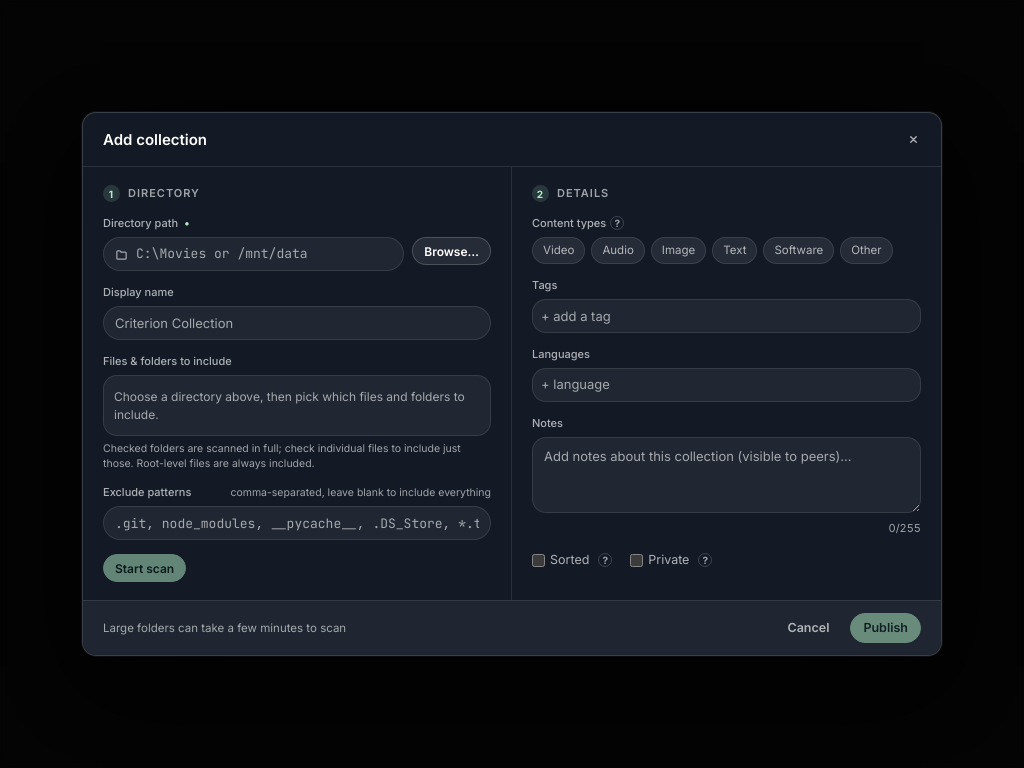
Scenario: AddCollectionModal (QURATOR-206 — one two-column screen) › publish_stays_disabled_until_both_a_scan_exists_and_a_content_type_is_picked
The image size is (1024, 768).
Expected: the button "Publish" is disabled, [850, 613, 921, 643]
Click the button "Video".
click(559, 251)  # box [532, 237, 585, 264]
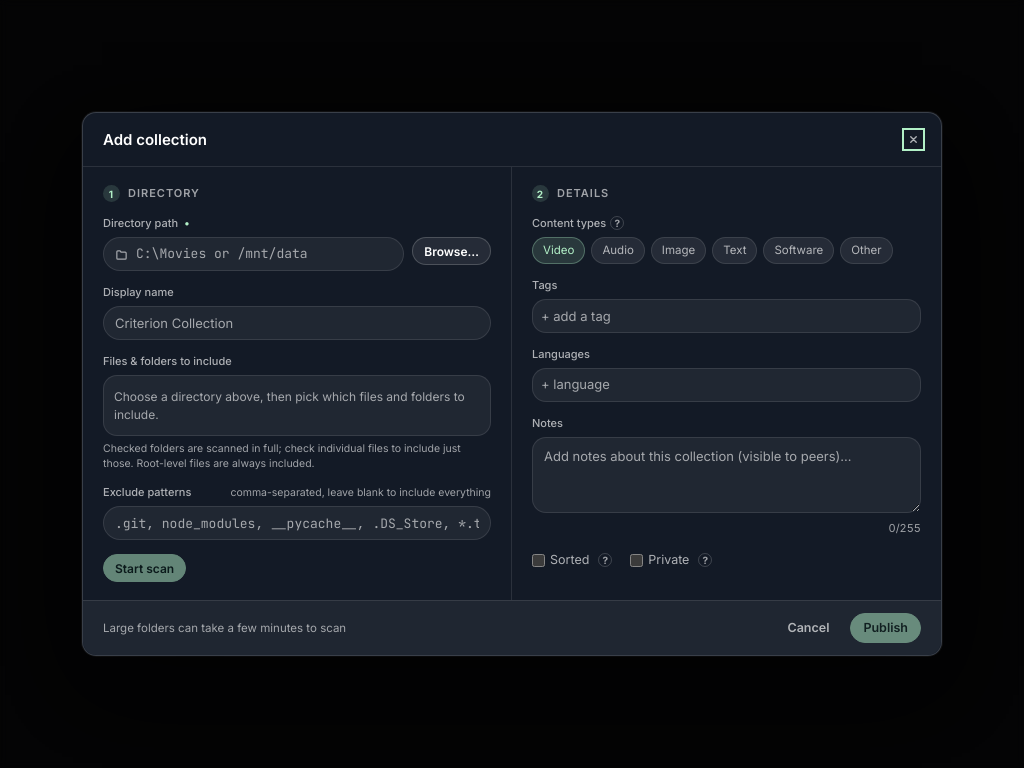
Expected: the button "Publish" is disabled, [850, 613, 921, 643]
Type "/mnt/movies" into the field with placeholder "C:\\Movies or /mnt/data".
click(264, 254); type("/mnt/movies")  # box [136, 245, 392, 264]
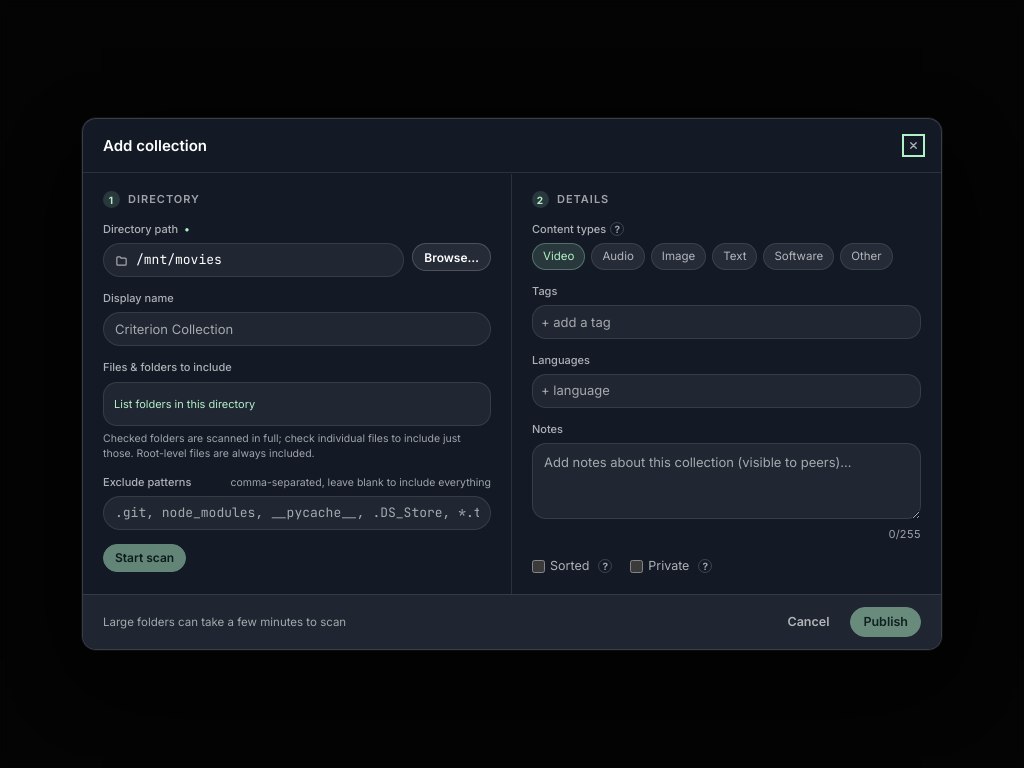
Type "Movies" into the field with placeholder "Criterion Collection".
click(297, 330); type("Movies")  # box [103, 313, 491, 347]
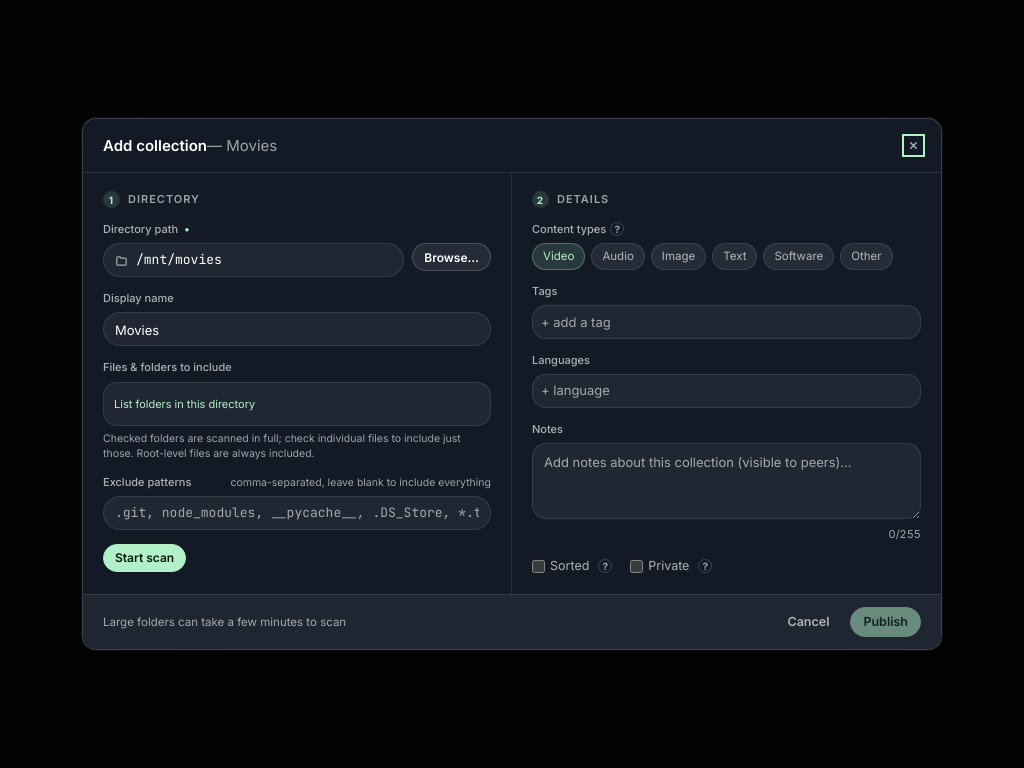
Click the button "Start scan".
click(145, 558)  # box [103, 544, 186, 572]
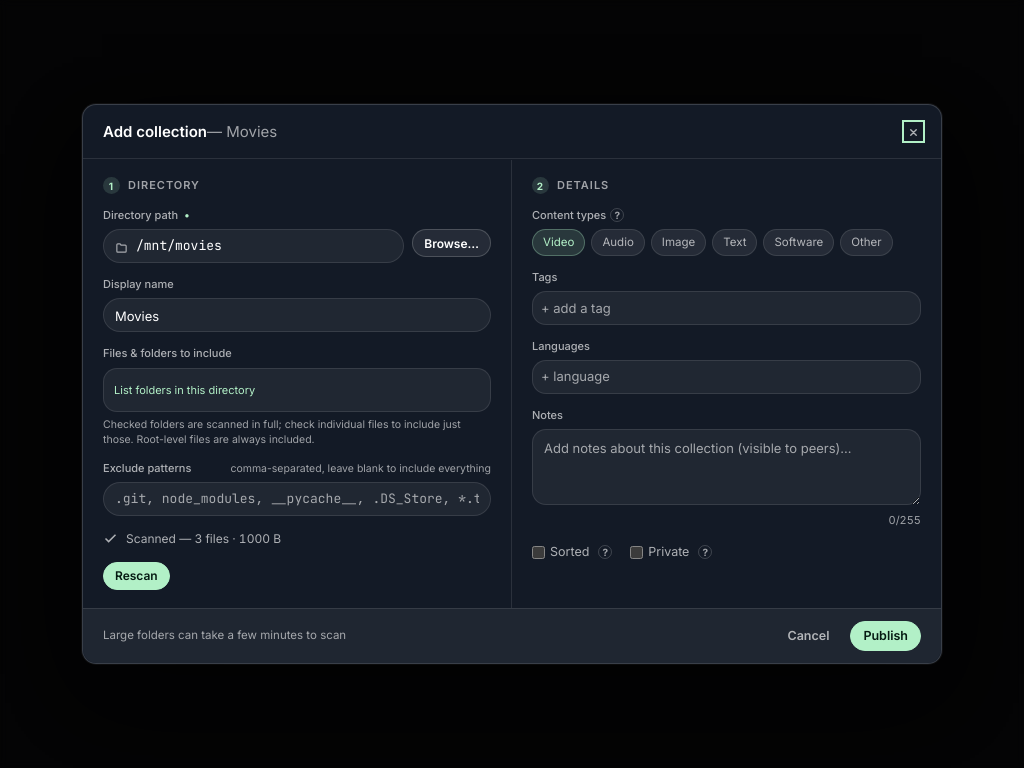
Expected: the button "Publish" is enabled, [850, 621, 921, 651]
